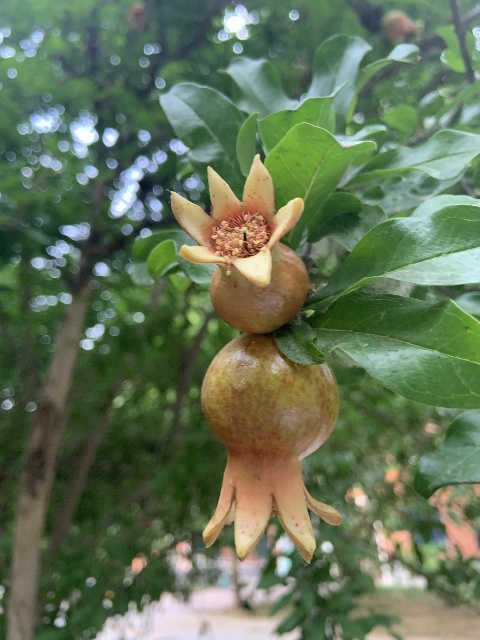early-fruit: (200, 334, 343, 564), (171, 152, 310, 334)
